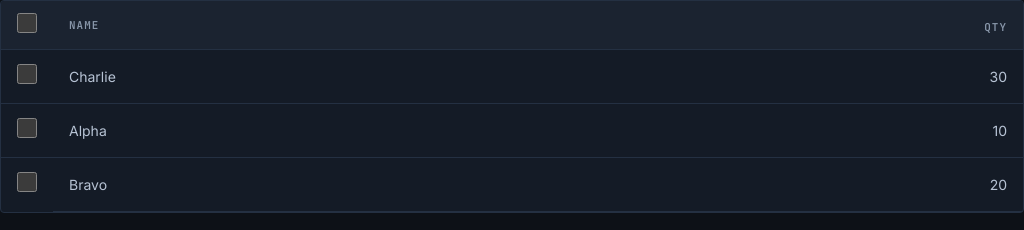
Test: DataTable › supports per-row selection add/remove and select-all
//  Add one
Click the checkbox named "Select row 1" at (27, 74), box [17, 64, 37, 84]
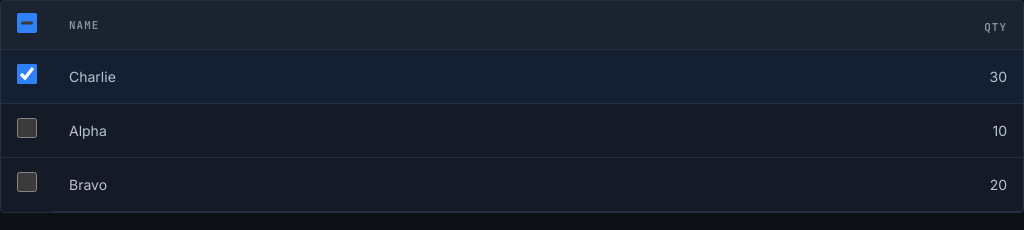
Expected: the checkbox named "Select row 2" is not checked, [17, 118, 37, 138]
Expected: the checkbox named "Select row 1" is checked
// Remove it
Click the checkbox named "Select row 1" at (27, 74), box [17, 64, 37, 84]
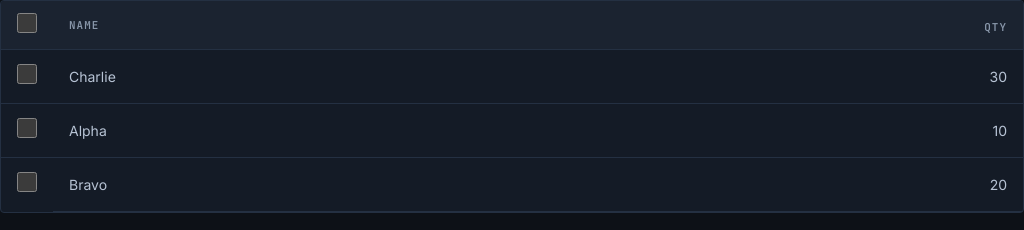
Expected: the checkbox named "Select row 1" is not checked, [17, 64, 37, 84]
// Select all
Click the checkbox named "Select all rows" at (27, 23), box [17, 13, 37, 33]
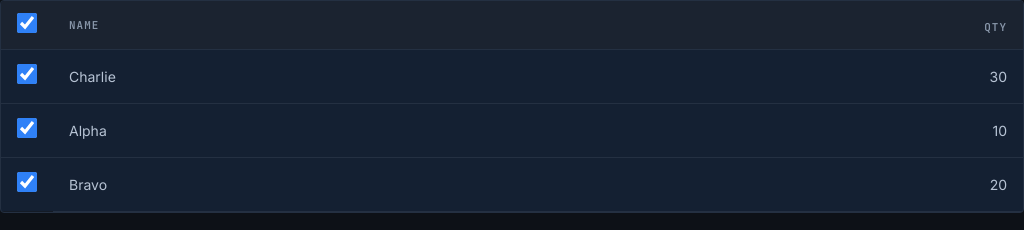
Expected: the checkbox named "Select row 1" is checked, [17, 64, 37, 84]
Expected: the checkbox named "Select row 2" is checked, [17, 118, 37, 138]
Expected: the checkbox named "Select row 3" is checked, [17, 172, 37, 192]
// Deselect all
Click the checkbox named "Select all rows" at (27, 23), box [17, 13, 37, 33]
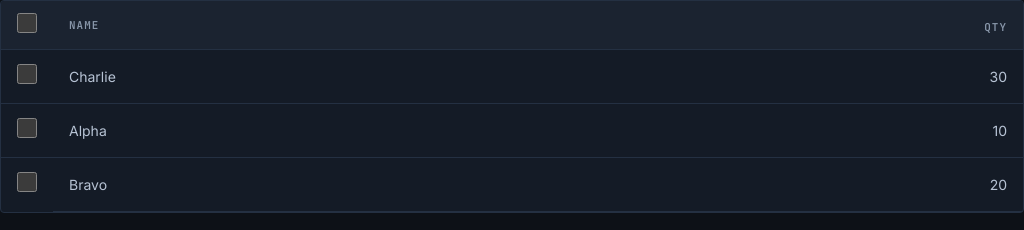
Expected: the checkbox named "Select row 1" is not checked, [17, 64, 37, 84]
Expected: the checkbox named "Select row 2" is not checked, [17, 118, 37, 138]
